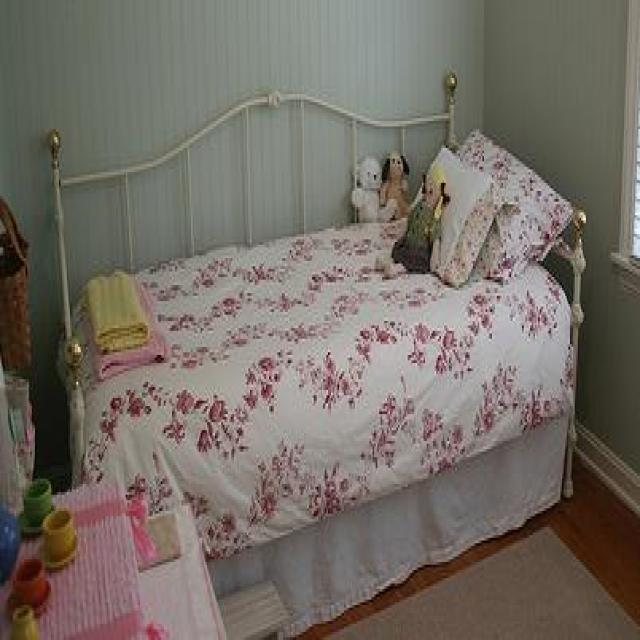bed: (44, 70, 586, 637)
